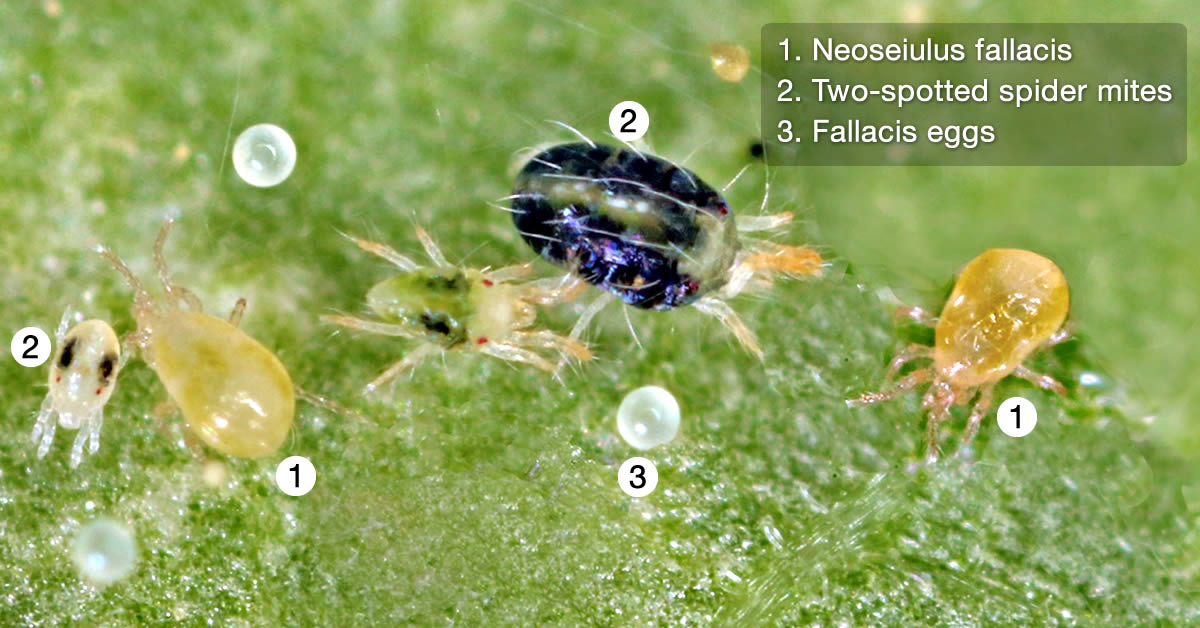Mites: (526, 142, 837, 362), (876, 221, 1096, 404), (362, 228, 570, 407), (124, 265, 311, 453), (28, 331, 122, 469)
